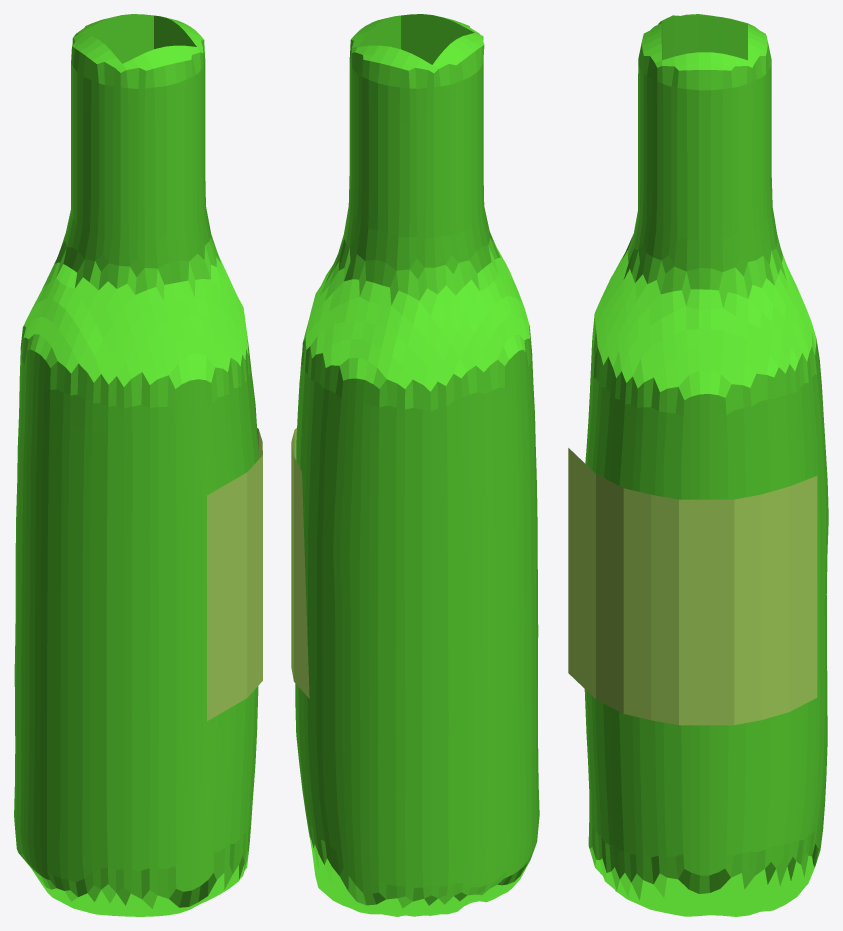
The model's file is Bottle.fbx.
3 renders of one model, left to right at view 1: azimuth 30°, elevation 25°; view 2: azimuth 150°, elevation 25°; view 3: azimuth 270°, elevation 25°, orthographic.
Visible parts, largest first — view 1: Cylinder, Plane; view 2: Cylinder, Plane; view 3: Cylinder, Plane.
Boxes of the visible parts, x1,y1,x2,y2 form: Cylinder: (14, 14, 258, 916); Plane: (207, 428, 262, 720); Cylinder: (295, 14, 539, 916); Plane: (291, 428, 309, 698); Cylinder: (584, 14, 828, 916); Plane: (568, 448, 817, 725).
Size of the model in its own units: 199 by 752 by 209.
